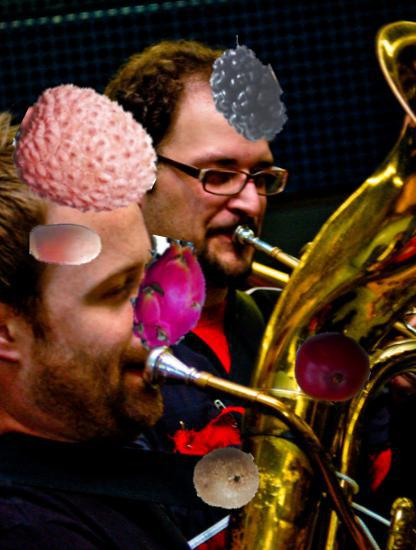Hazelnut: (29, 207, 104, 282)
Kiwi: (193, 445, 261, 513)
Lychee: (14, 81, 161, 228)
Mango: (294, 329, 371, 406)
Mulberry: (179, 41, 291, 153)
Pitahaya: (110, 239, 225, 354)
